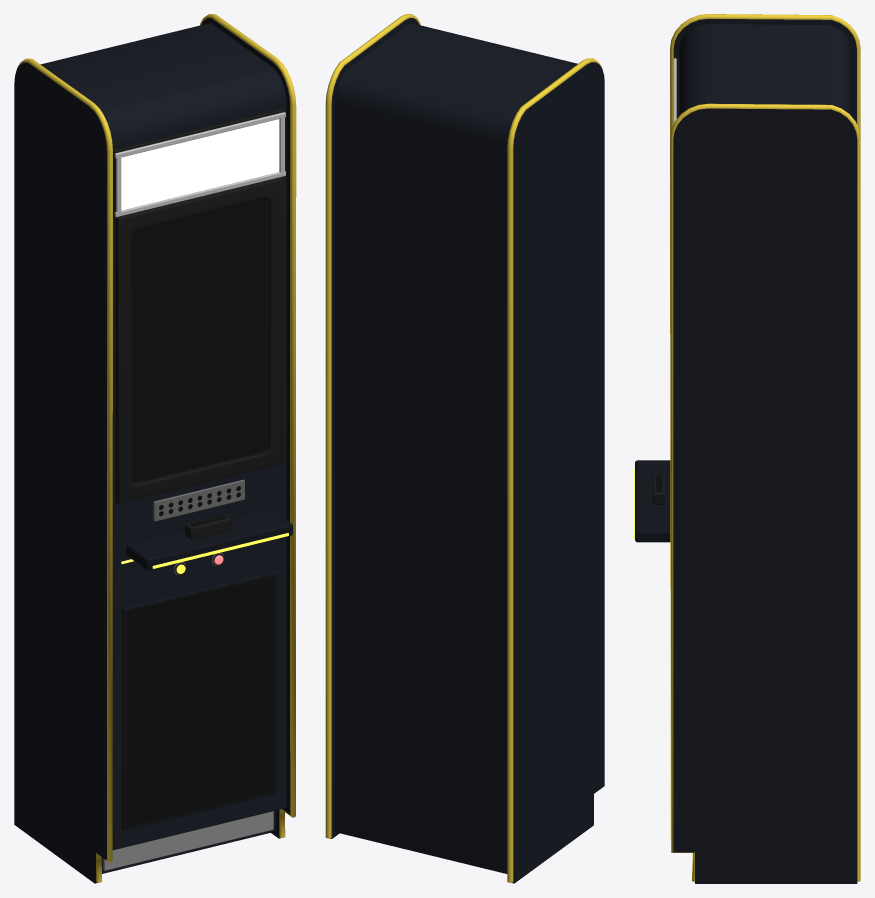
The model's file is mach-mina.glb.
3 views of the same model, side by side, from view 1: azimuth 30°, elevation 25°; view 2: azimuth 150°, elevation 25°; view 3: azimuth 270°, elevation 25° (orthographic).
Parts seen in each view (by area): view 1: side_art_l, body, screen, front_art, glass, controls, trim, marquee, metal, speaker; view 2: body, side_art_l, trim; view 3: side_art_r, body, trim, controls.
Boxes of the visible parts, x1,y1,x2,y2 form: side_art_l: (14, 62, 106, 883); body: (27, 18, 290, 883); screen: (131, 198, 267, 482); front_art: (126, 576, 274, 827); glass: (132, 198, 268, 483); controls: (113, 109, 292, 570); trim: (17, 14, 296, 882); marquee: (121, 119, 279, 210); metal: (103, 112, 285, 870); speaker: (153, 479, 244, 521); body: (330, 18, 591, 883); side_art_l: (514, 62, 604, 883); trim: (325, 14, 602, 882); side_art_r: (673, 108, 857, 883); body: (673, 19, 856, 126); trim: (670, 14, 860, 881); controls: (633, 56, 678, 542).
Size of the model in its own units: 0.503 by 1.96 by 0.5185.
